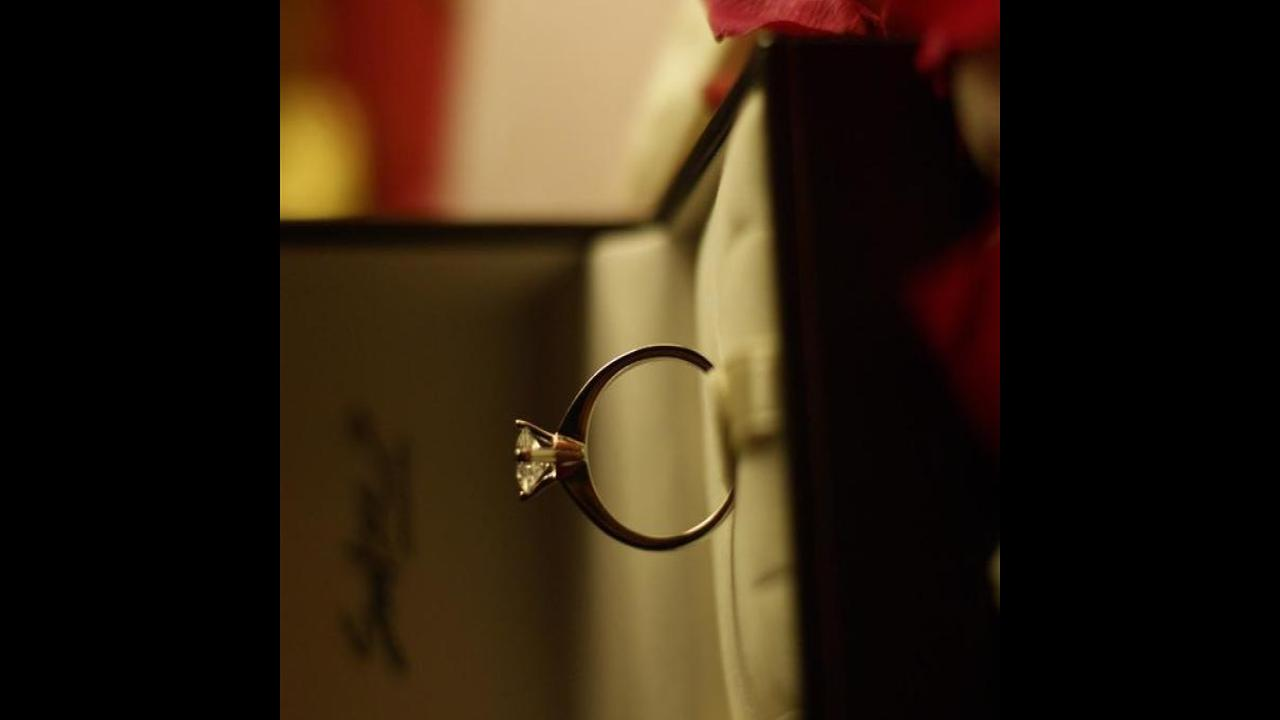ring: (509, 342, 741, 558)
